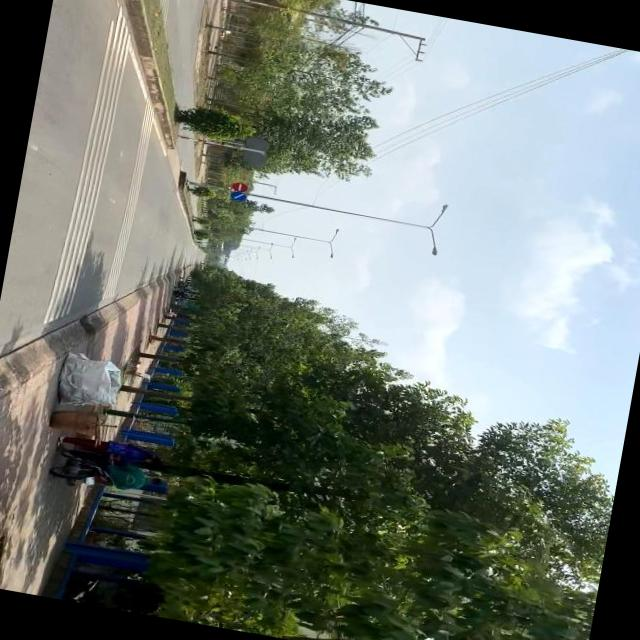P-102: (228, 179, 248, 193)
R-302a: (228, 192, 247, 202)
